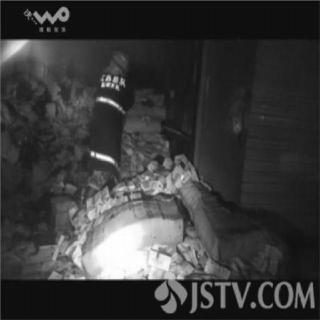Fire: (91, 226, 145, 276)
other: (156, 216, 258, 274), (111, 179, 180, 219), (94, 66, 128, 114), (71, 190, 115, 214), (84, 146, 117, 166), (109, 50, 137, 69)
